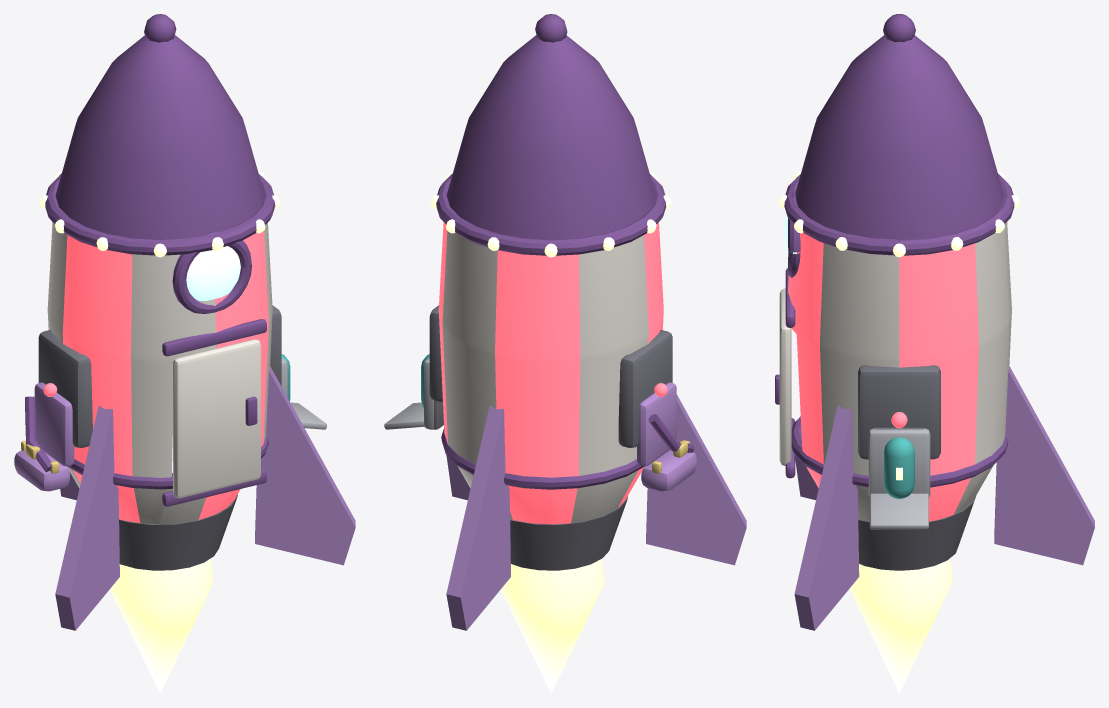
File: SPY_Rocket_CursedCandyCarnival.fbx
3 views of the same model, side by side, from view 1: azimuth 30°, elevation 25°; view 2: azimuth 150°, elevation 25°; view 3: azimuth 270°, elevation 25° (orthographic).
Visible parts, largest first — view 1: Body, Hatch, Flame, Slot_00_Empty, Slot_00_Filled; view 2: Body, Flame, Slot_00_Empty, Slot_01_Empty, Slot_01_Filled, Slot_00_Filled; view 3: Body, Flame, Slot_01_Filled, Slot_01_Empty, Hatch.
Boxes of the visible parts, bbox=[...] form: Body: bbox=[38, 14, 355, 630]; Hatch: bbox=[173, 339, 260, 498]; Flame: bbox=[110, 558, 212, 693]; Slot_00_Empty: bbox=[14, 382, 74, 491]; Slot_00_Filled: bbox=[25, 396, 51, 472]; Body: bbox=[429, 14, 746, 630]; Flame: bbox=[501, 559, 603, 693]; Slot_00_Empty: bbox=[637, 382, 696, 491]; Slot_01_Empty: bbox=[384, 400, 443, 429]; Slot_01_Filled: bbox=[421, 354, 433, 429]; Slot_00_Filled: bbox=[648, 414, 694, 457]; Body: bbox=[778, 14, 1094, 630]; Flame: bbox=[849, 558, 952, 693]; Slot_01_Filled: bbox=[868, 428, 930, 498]; Slot_01_Empty: bbox=[869, 412, 928, 529]; Hatch: bbox=[775, 288, 791, 465].
Size of the model in its own units: 2.96 by 6.32 by 2.7.
